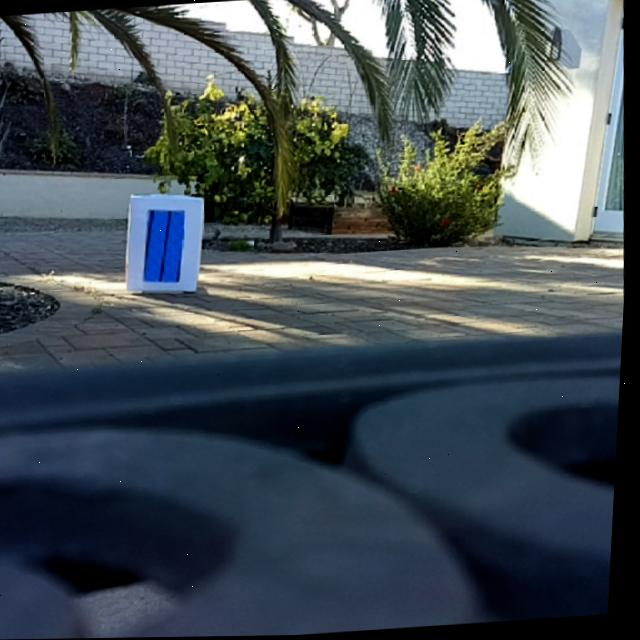led: (143, 209, 190, 285)
